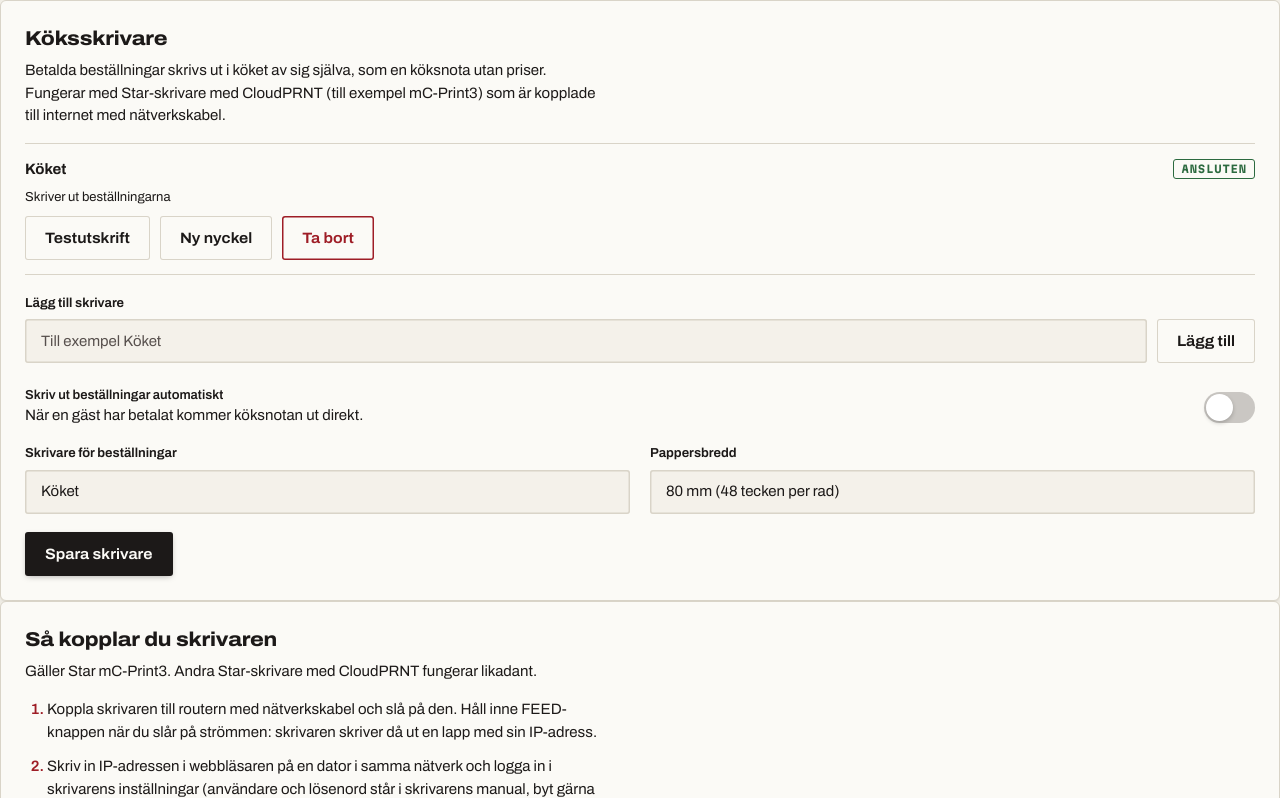
PrinterCard › turns on auto print with the version the screen showed
The width and height of the screenshot is (1280, 798).
Click the switch named "Skriv ut beställningar automatiskt" at (1230, 407), box x1=1204 y1=392 x2=1255 y2=423
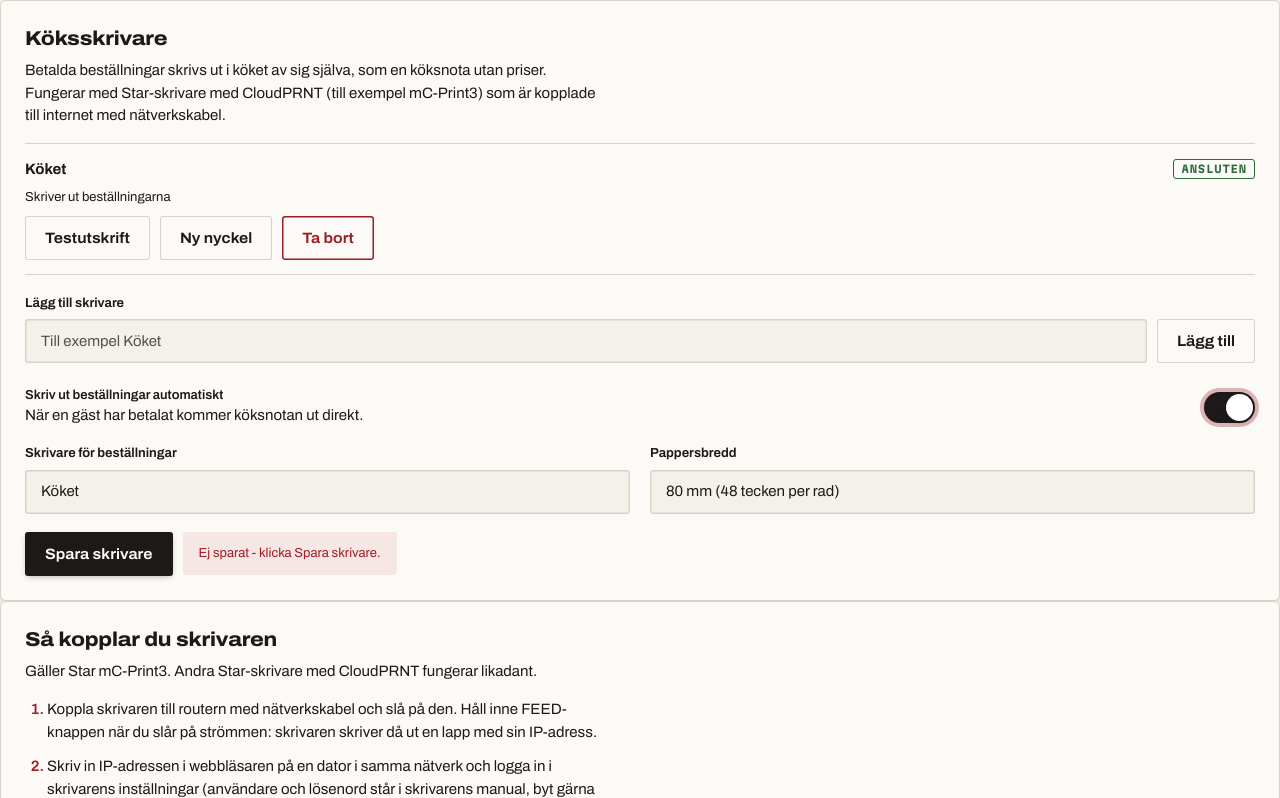
Select "58 mm (32 tecken per rad)" in the dropdown labelled "Pappersbredd" at (952, 492), box x1=650 y1=470 x2=1255 y2=514
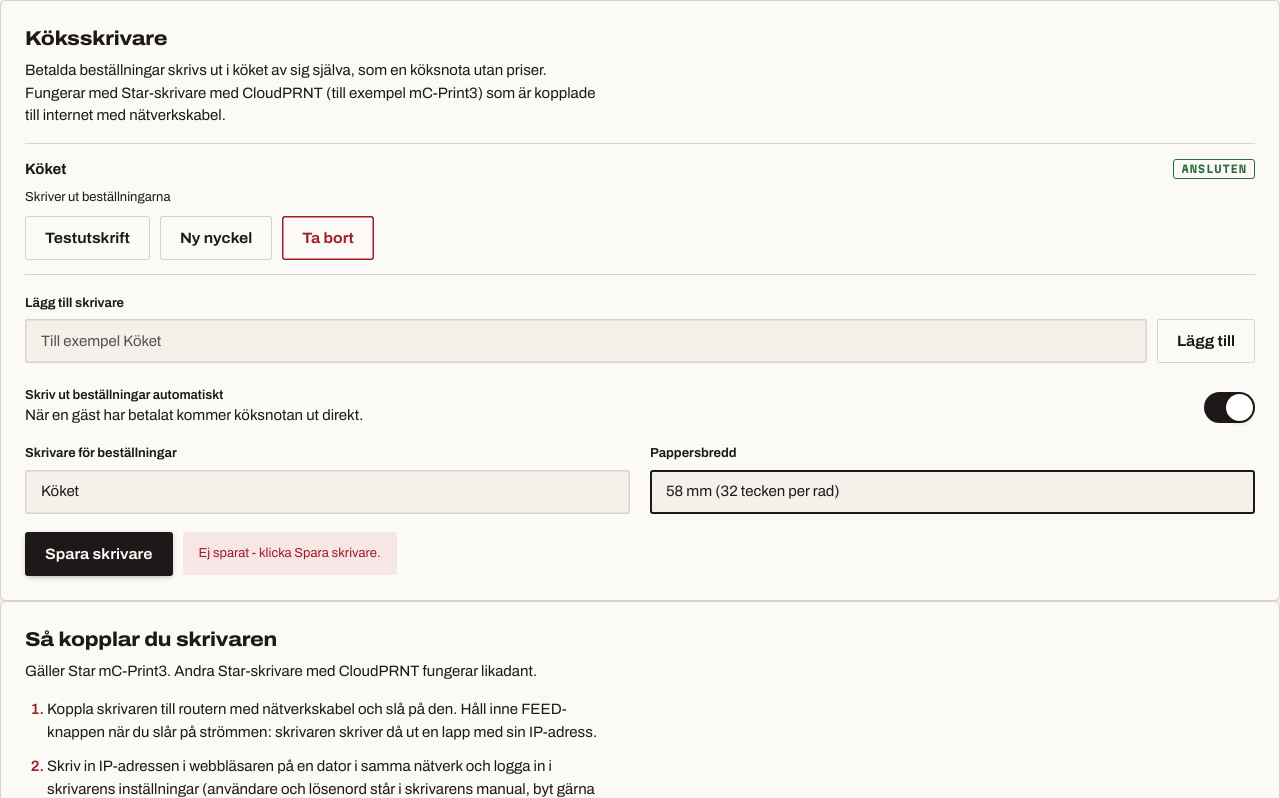
Click the button "Spara skrivare" at (99, 554), box x1=25 y1=532 x2=172 y2=576
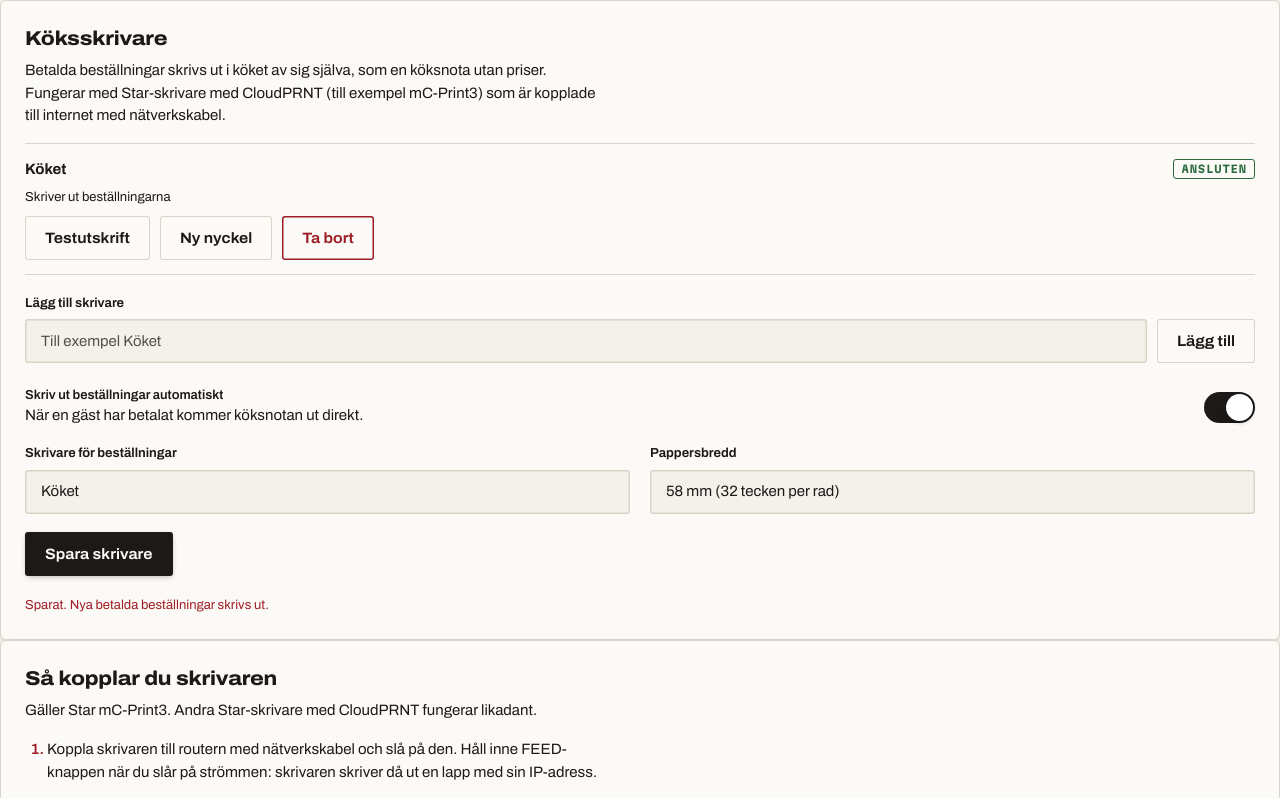
Expected: the text "Sparat. Nya betalda beställningar skrivs ut." is shown, x1=25 y1=598 x2=269 y2=612
